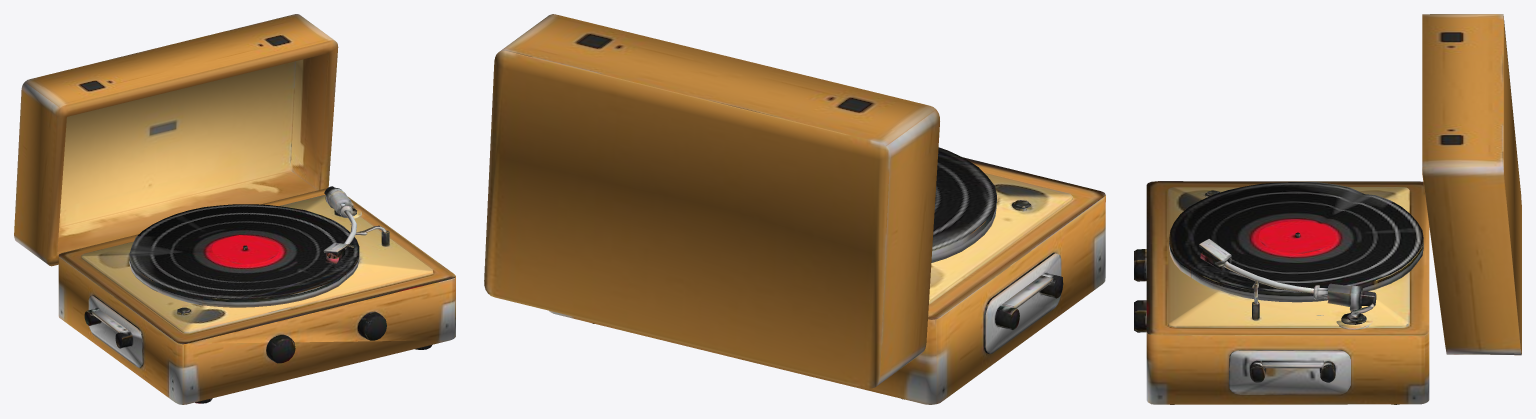
File: record-player.glb
3 views of the same model, side by side, from view 1: azimuth 30°, elevation 25°; view 2: azimuth 150°, elevation 25°; view 3: azimuth 270°, elevation 25° (orthographic). The views are drawn at different scales.
Bounding box in the file's own units: 0.9575 × 0.6626 × 0.9336.
1 material, 1 textured.
